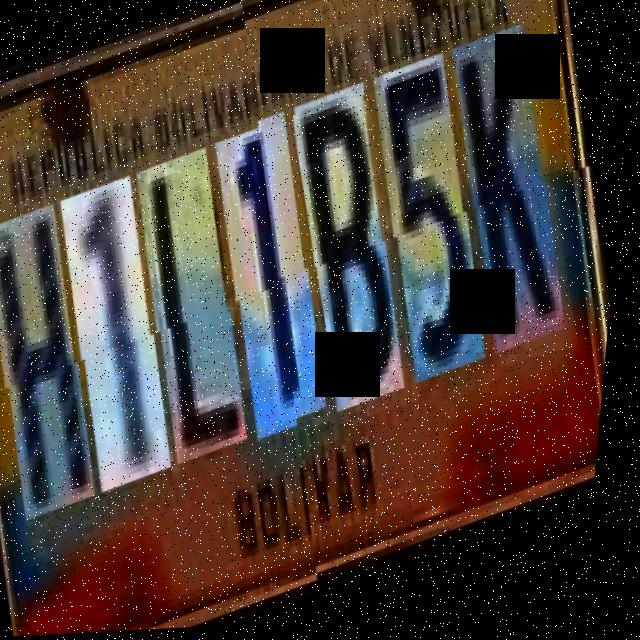1: (193, 121, 368, 451), (40, 175, 212, 498)
5: (351, 67, 527, 403)
B: (273, 94, 449, 430)
H: (0, 201, 136, 523)
K: (430, 40, 606, 376)
L: (116, 148, 288, 471)
